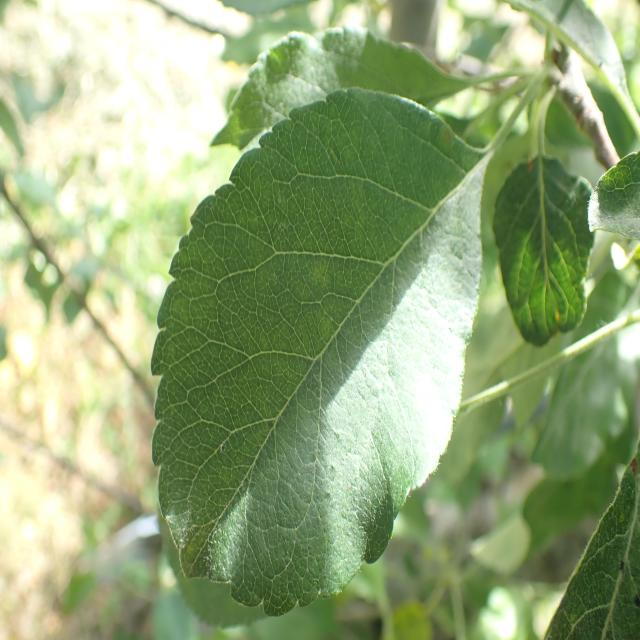healthy: (151, 86, 491, 618), (210, 25, 475, 152), (492, 154, 596, 348), (542, 453, 640, 640), (587, 150, 640, 241)
